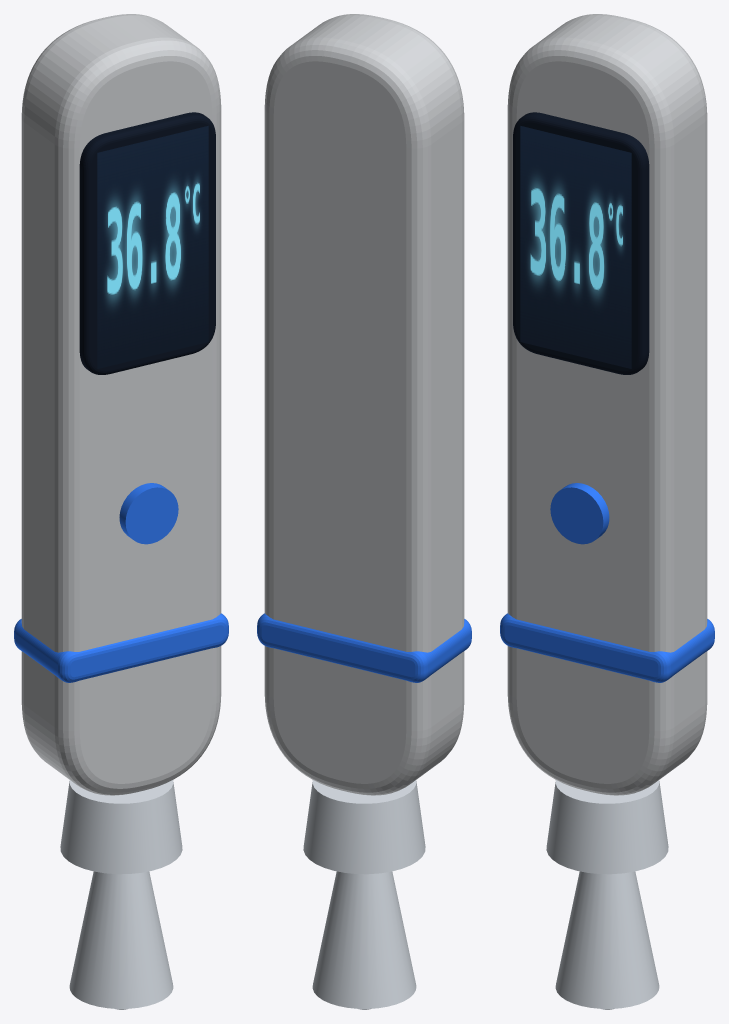
The model's file is thermometer.glb.
3 renders of one model, left to right at view 1: azimuth 30°, elevation 25°; view 2: azimuth 150°, elevation 25°; view 3: azimuth 330°, elevation 25°, orthographic.
Bounding box in the file's own units: 0.6173 × 3.4 × 0.3906.
5 materials, 1 textured.
